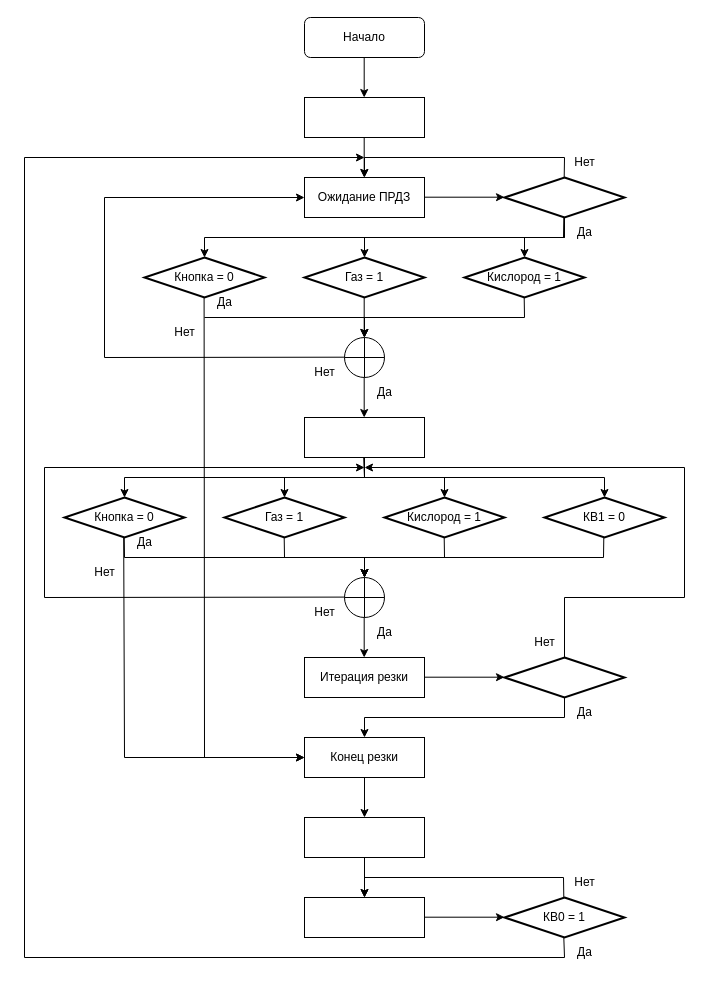
Image size: 710x985. Some labels were removed from this diagram. Each missing label, with the centre of its shape:
"T = 0" goes at [564,677].
"Движение в исходную" goes at [364,917].
"Захват заготовки" goes at [364,437].
"Инициализация" goes at [364,117].
"Отпускание заготовки" goes at [364,837].
"ПРДЗ = 1" goes at [564,197].
